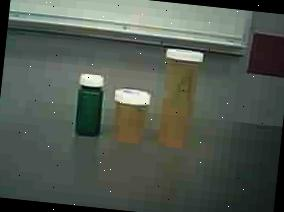Bottle A: (153, 42, 207, 155)
Bottle B: (108, 84, 156, 146)
Bottle C: (69, 68, 110, 140)
